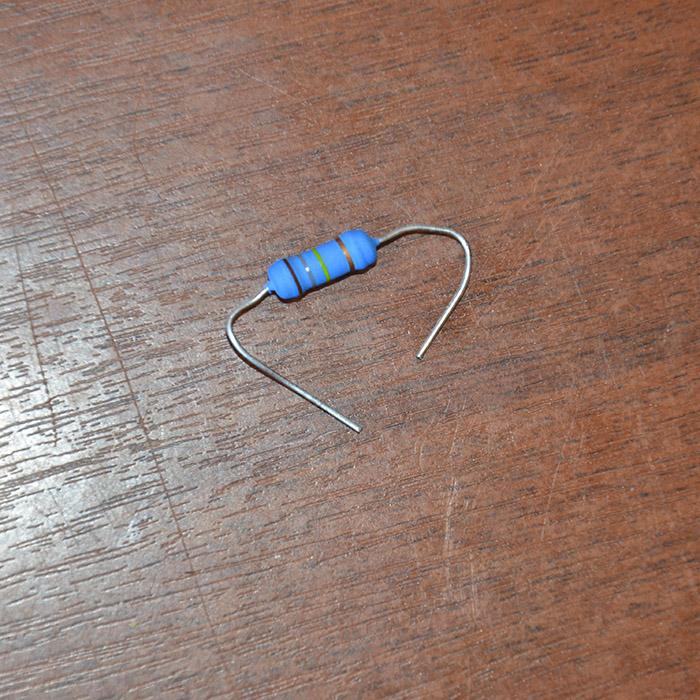resistor: (265, 227, 380, 301)
